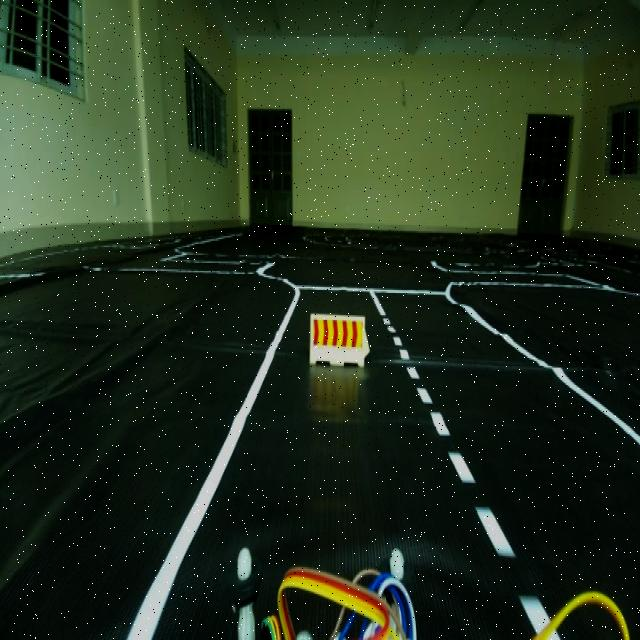roadblock: (303, 298, 377, 390)
